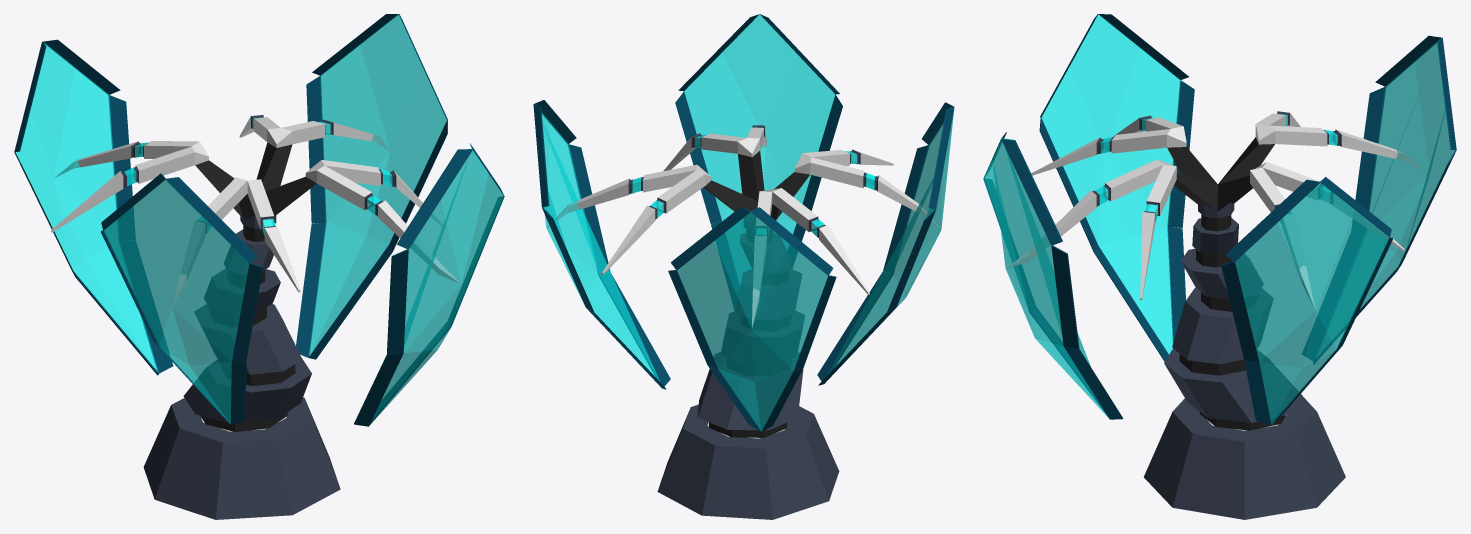
File: Sci-Fi Tree.fbx
3 renders of one model, left to right at view 1: azimuth 30°, elevation 25°; view 2: azimuth 150°, elevation 25°; view 3: azimuth 270°, elevation 25°, orthographic. The views are drawn at different scales.
Parts seen in each view (by area): view 1: Cube_Plane, Cube_Plane.001, Cube_Plane.002, Cube_Plane.003, Cube_Plane.004, Cube_Plane.005; view 2: Cube_Plane, Cube_Plane.001, Cube_Plane.002, Cube_Plane.003, Cube_Plane.004, Cube_Plane.005; view 3: Cube_Plane, Cube_Plane.001, Cube_Plane.002, Cube_Plane.003, Cube_Plane.004, Cube_Plane.005.
Boxes of the visible parts, x1=… form: Cube_Plane: x1=14, y1=14, x2=504, y2=426; Cube_Plane.001: x1=143, y1=397, x2=340, y2=519; Cube_Plane.002: x1=183, y1=359, x2=311, y2=432; Cube_Plane.003: x1=194, y1=304, x2=302, y2=385; Cube_Plane.004: x1=204, y1=269, x2=280, y2=326; Cube_Plane.005: x1=224, y1=229, x2=273, y2=287; Cube_Plane: x1=533, y1=14, x2=954, y2=431; Cube_Plane.001: x1=657, y1=404, x2=839, y2=519; Cube_Plane.002: x1=697, y1=352, x2=803, y2=437; Cube_Plane.003: x1=721, y1=311, x2=804, y2=376; Cube_Plane.004: x1=736, y1=269, x2=801, y2=331; Cube_Plane.005: x1=740, y1=233, x2=791, y2=284; Cube_Plane: x1=983, y1=14, x2=1456, y2=425; Cube_Plane.001: x1=1144, y1=396, x2=1345, y2=519; Cube_Plane.002: x1=1164, y1=348, x2=1302, y2=430; Cube_Plane.003: x1=1172, y1=287, x2=1273, y2=375; Cube_Plane.004: x1=1181, y1=248, x2=1263, y2=311; Cube_Plane.005: x1=1192, y1=218, x2=1238, y2=267.
Bounding box in the file's own units: 298 × 300 × 327.
